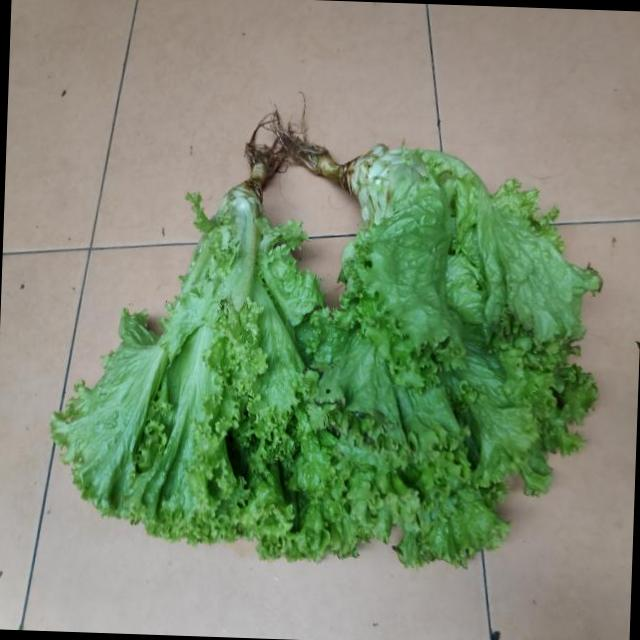Lettuce-Ready-to-Harvest: (284, 146, 601, 564), (51, 179, 324, 556)
